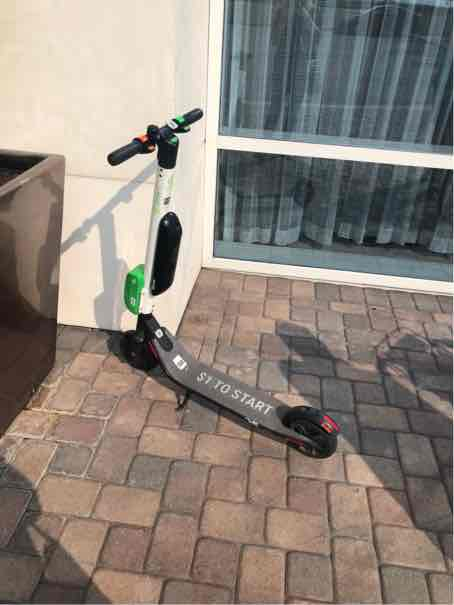scooter: (95, 97, 348, 468)
